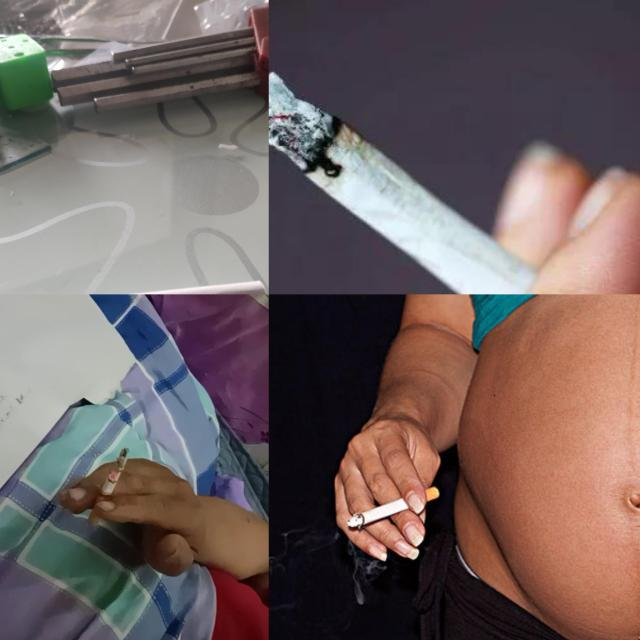smoking: (268, 70, 598, 294), (0, 279, 268, 294), (346, 486, 440, 528), (87, 446, 130, 527)
